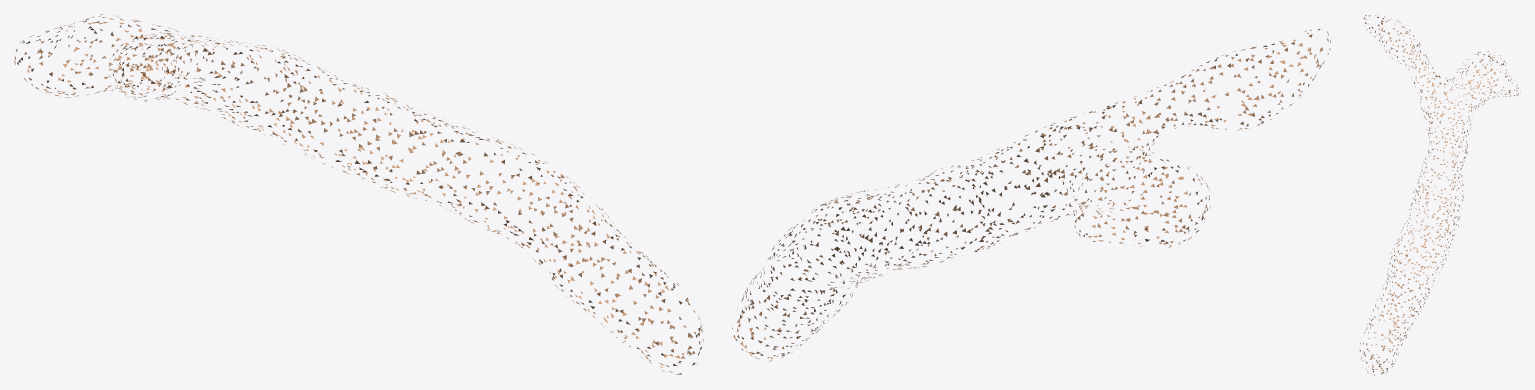
Rendered from morph_005.glb.
3 renders of one model, left to right at view 1: azimuth 30°, elevation 25°; view 2: azimuth 150°, elevation 25°; view 3: azimuth 270°, elevation 25°, orthographic. The views are drawn at different scales.
Bounding box in the file's own units: 95.02 × 71.68 × 45.71.
